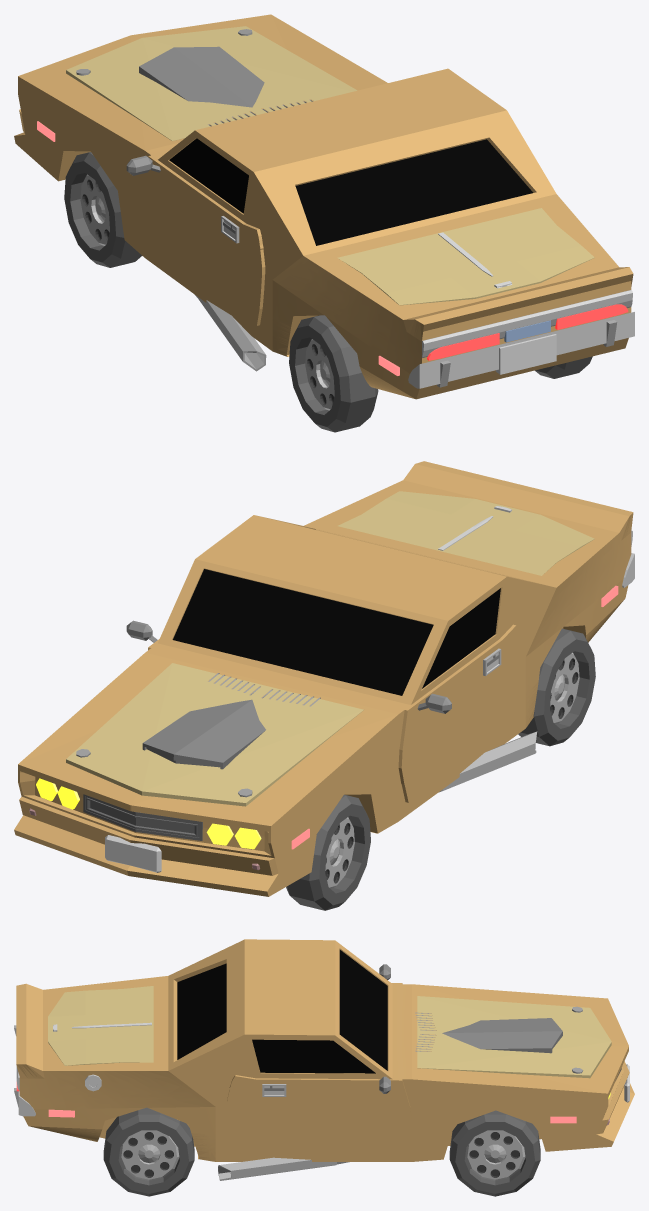
3 views of the same model, one above another, from view 1: azimuth 30°, elevation 25°; view 2: azimuth 150°, elevation 25°; view 3: azimuth 270°, elevation 25° (orthographic). The views are drawn at different scales.
Parts seen in each view (by area): view 1: Cube_1_3, Cube_7_4, Cube_1, Cylinder_2_2, Cube_2_4, Cube_3_3, Cylinder_5, Cube_5_3, Cube_5_4, Cube_6_3, Cylinder_2_4, Cylinder_4_2 (+3 smaller); view 2: Cube_1_3, Cube_1, Cube_7_4, Cube_2_4, Cylinder_5, Cylinder_2_2, Cube_3_5, Cylinder_2_4, plate, Cylinder_4_2, Cylinder, Cylinder_3_2 (+4 smaller); view 3: Cube_1_3, Cube_1, Cube_7_4, Cylinder_2_2, Cylinder_5, Cube_2_4, Cylinder_4_2, Cylinder, Cylinder_2_4.
Boxes of the visible parts, bbox=[...] form: Cube_1_3: bbox=[14, 14, 633, 399]; Cube_7_4: bbox=[337, 208, 594, 305]; Cube_1: bbox=[66, 26, 357, 141]; Cylinder_2_2: bbox=[289, 315, 592, 432]; Cube_2_4: bbox=[139, 46, 265, 114]; Cube_3_3: bbox=[408, 312, 634, 388]; Cylinder_5: bbox=[64, 152, 141, 267]; Cube_5_3: bbox=[422, 290, 632, 357]; Cube_5_4: bbox=[427, 304, 628, 360]; Cube_6_3: bbox=[495, 334, 556, 374]; Cylinder_2_4: bbox=[194, 294, 266, 371]; Cylinder_4_2: bbox=[80, 174, 109, 245]; Cube_1_3: bbox=[14, 461, 633, 896]; Cube_1: bbox=[66, 663, 363, 806]; Cube_7_4: bbox=[338, 491, 594, 575]; Cube_2_4: bbox=[142, 693, 267, 769]; Cylinder_5: bbox=[286, 794, 370, 910]; Cylinder_2_2: bbox=[518, 628, 595, 746]; Cube_3_5: bbox=[83, 794, 202, 840]; Cylinder_2_4: bbox=[439, 731, 537, 792]; plate: bbox=[105, 835, 161, 872]; Cylinder_4_2: bbox=[325, 817, 354, 888]; Cylinder: bbox=[550, 652, 579, 724]; Cylinder_3_2: bbox=[555, 651, 589, 728]; Cube_1_3: bbox=[16, 939, 634, 1161]; Cube_1: bbox=[417, 996, 611, 1078]; Cube_7_4: bbox=[48, 986, 153, 1065]; Cylinder_2_2: bbox=[103, 1107, 194, 1196]; Cylinder_5: bbox=[449, 1110, 540, 1196]; Cube_2_4: bbox=[442, 1018, 562, 1053]; Cylinder_4_2: bbox=[465, 1130, 525, 1180]; Cylinder: bbox=[119, 1130, 179, 1180]; Cylinder_2_4: bbox=[218, 1157, 349, 1180].
Bounding box in the file's own units: 2.56 × 1.6 × 5.52.
